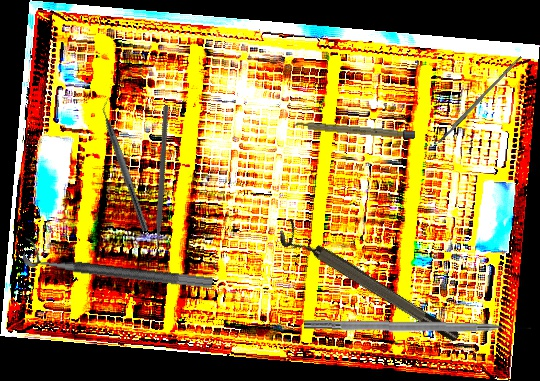Chopper: (85, 104, 228, 263), (95, 95, 158, 233)
Fixation Ring: (274, 217, 463, 354), (21, 237, 216, 290)
Hook Surgical: (303, 319, 532, 336)
Scalpel Handle: (436, 54, 523, 145), (292, 120, 416, 140)
